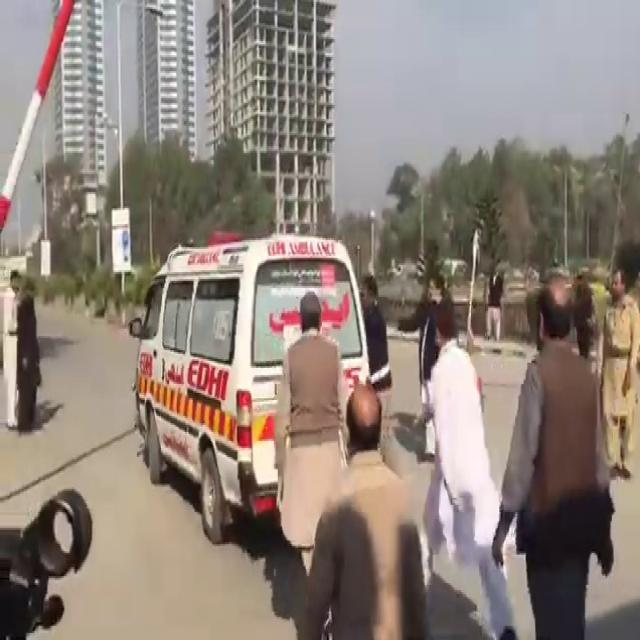ambulance: (126, 204, 404, 514)
